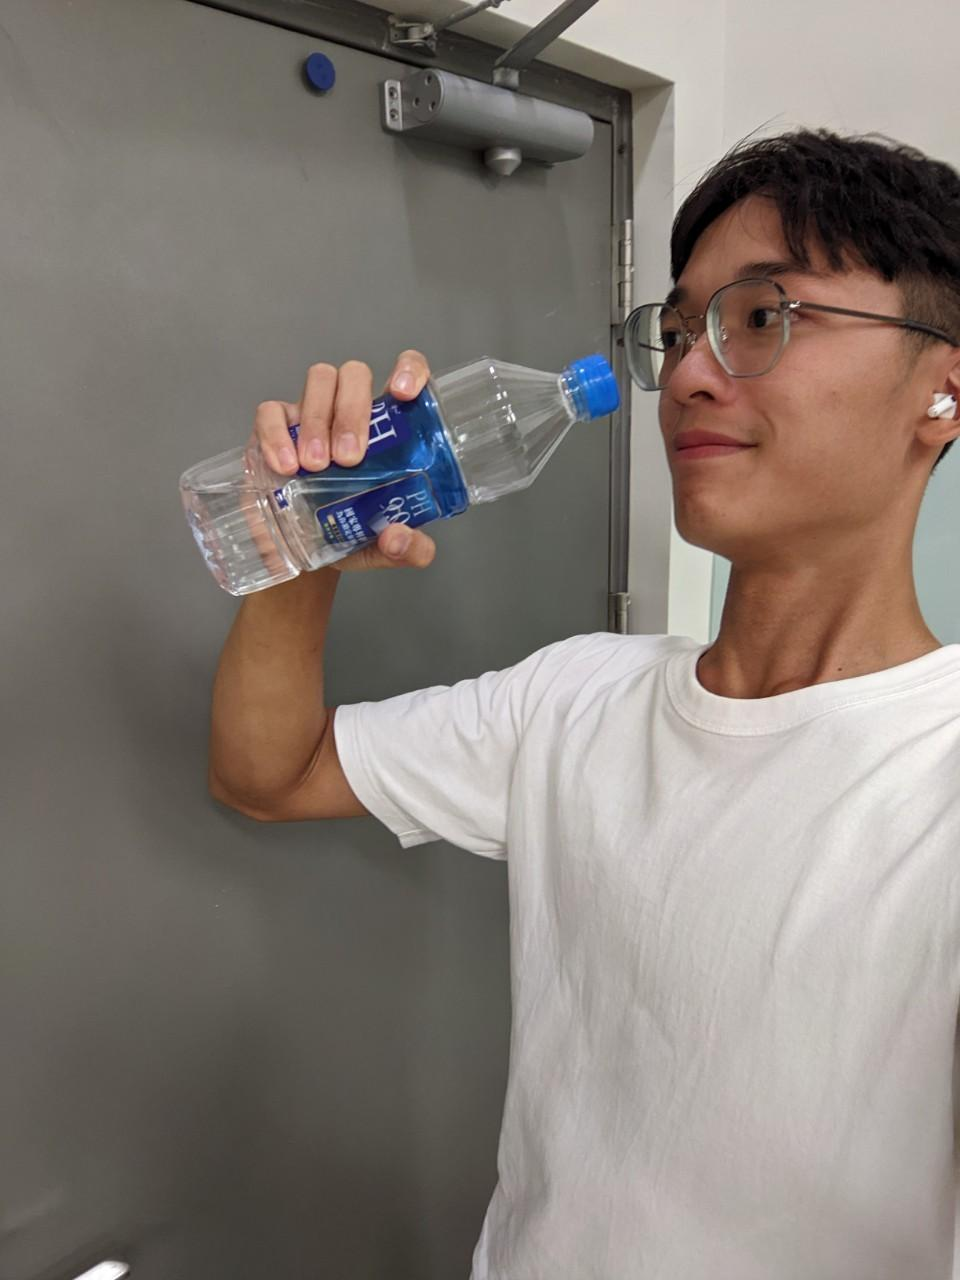BIODEGRADABLE: (173, 325, 623, 593)
